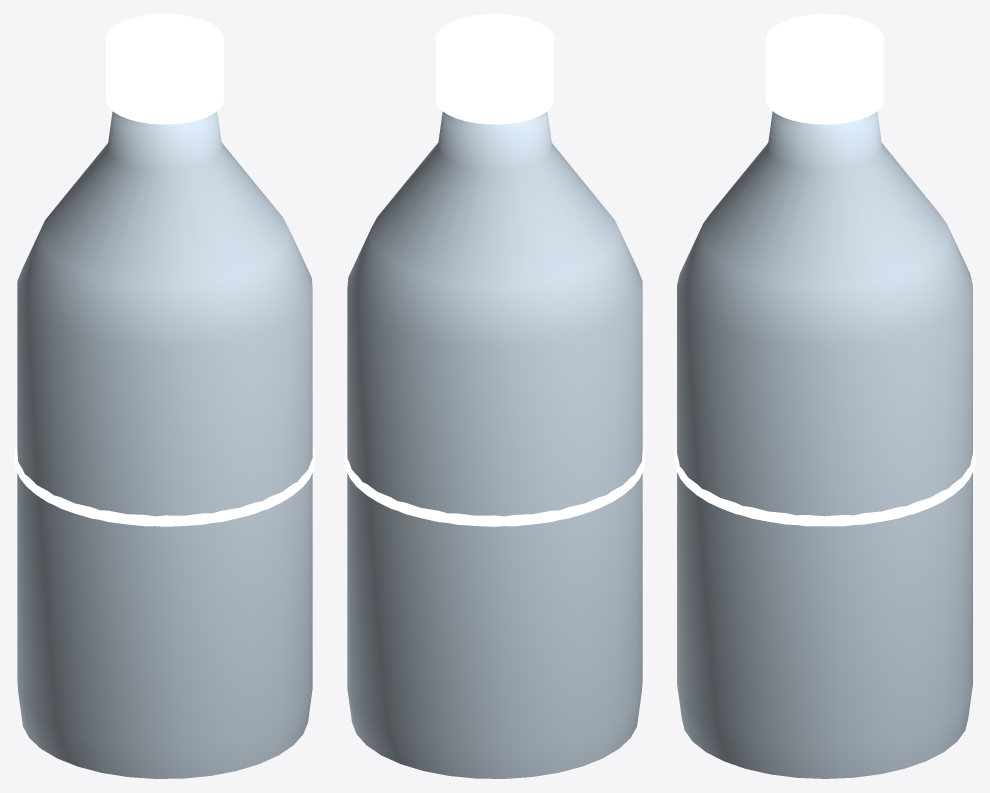
Rendered from almond_water.glb.
3 renders of one model, left to right at view 1: azimuth 30°, elevation 25°; view 2: azimuth 150°, elevation 25°; view 3: azimuth 270°, elevation 25°, orthographic.
Visible parts, largest first — view 1: bottle, cap, label; view 2: bottle, cap, label; view 3: bottle, cap, label.
Part boxes in pixels (left/top/right/bottom): bottle: left=17, top=111, right=312, bottom=778; cap: left=106, top=14, right=223, bottom=124; label: left=14, top=445, right=315, bottom=526; bottle: left=347, top=111, right=642, bottom=778; cap: left=436, top=14, right=553, bottom=124; label: left=344, top=445, right=645, bottom=526; bottle: left=677, top=111, right=972, bottom=778; cap: left=765, top=14, right=884, bottom=124; label: left=674, top=446, right=975, bottom=526.
Bounding box in the file's own units: 0.316 × 0.785 × 0.316.
